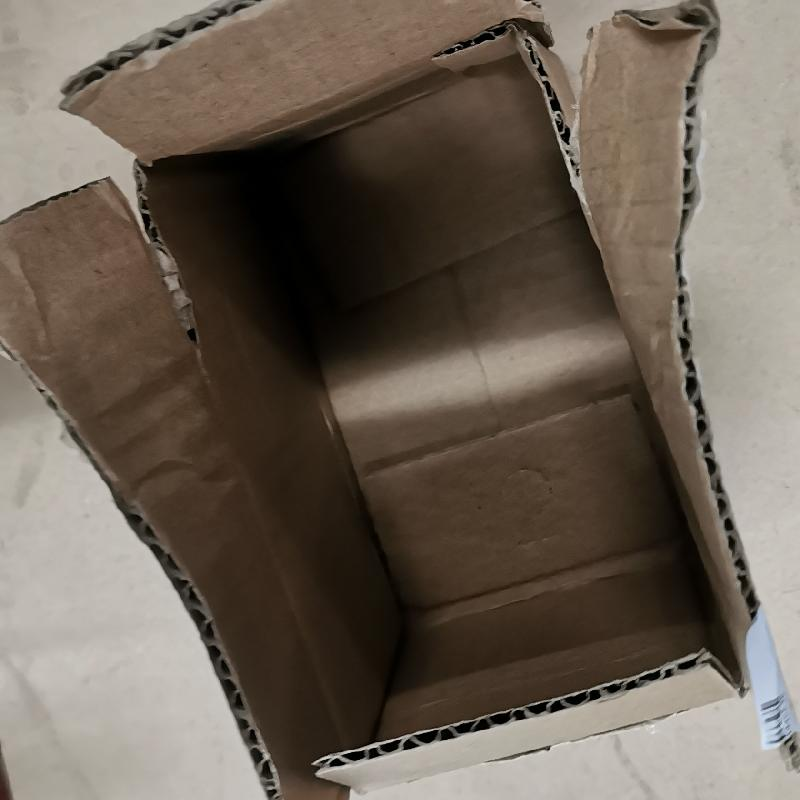boxes: (4, 4, 799, 799)
